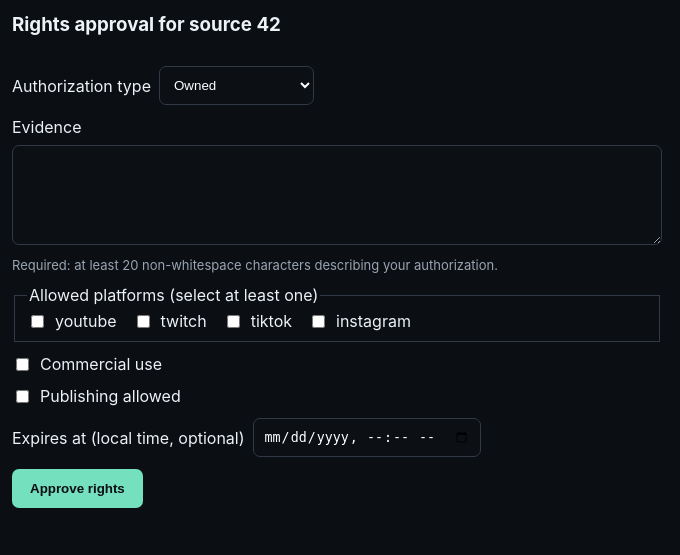
RightsForm › requires an allowed platform
Type "I own the original video and all distribution rights." into the text box labelled "Evidence" at point(337, 195), box [12,145,662,245]
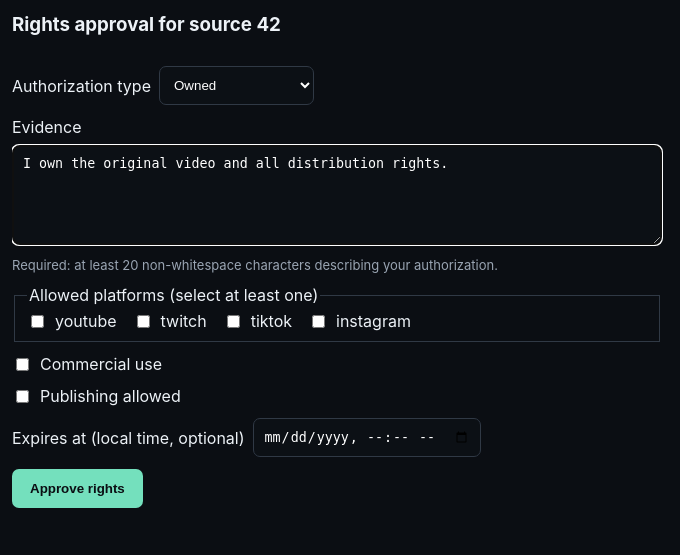
Click the button "Approve rights" at point(77, 489), box [12,469,143,508]
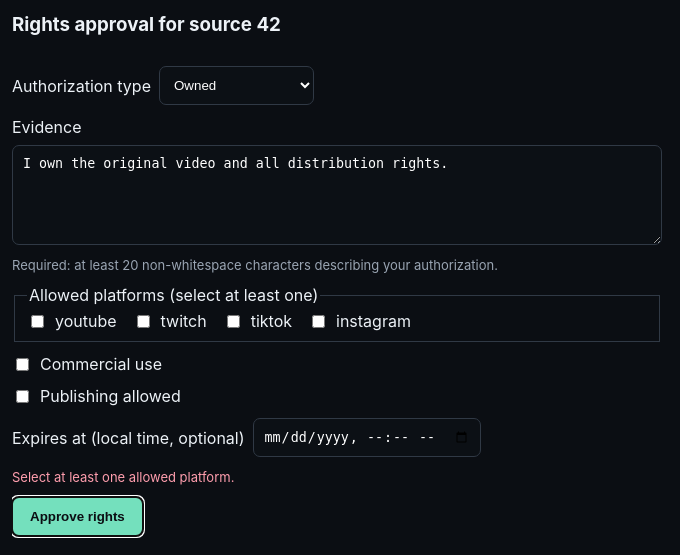
Expected: the message shows "at least one", [12,469,234,485]
